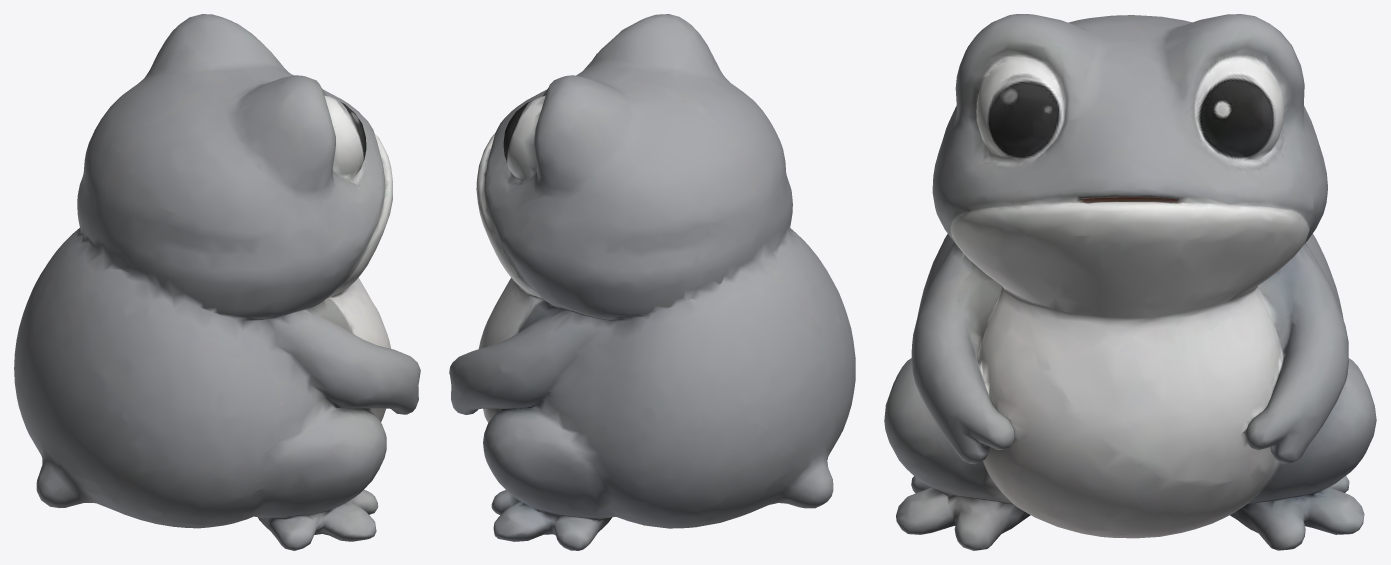
The model's file is pet-frog.glb.
The picture shows the model from 3 angles, left to right: view 1: azimuth 30°, elevation 25°; view 2: azimuth 150°, elevation 25°; view 3: azimuth 270°, elevation 25°; orthographic projection. The views are drawn at different scales.
Visible parts, largest first — view 1: tripo_node_5ea29a8a-eef9-4716-8947-39d28a47ce39; view 2: tripo_node_5ea29a8a-eef9-4716-8947-39d28a47ce39; view 3: tripo_node_5ea29a8a-eef9-4716-8947-39d28a47ce39.
Boxes of the visible parts, bbox=[...] form: tripo_node_5ea29a8a-eef9-4716-8947-39d28a47ce39: bbox=[14, 14, 420, 550]; tripo_node_5ea29a8a-eef9-4716-8947-39d28a47ce39: bbox=[449, 14, 855, 550]; tripo_node_5ea29a8a-eef9-4716-8947-39d28a47ce39: bbox=[884, 14, 1376, 550].
Bounding box in the file's own units: 0.8219 × 1 × 0.8865.
1 material, 1 textured.
